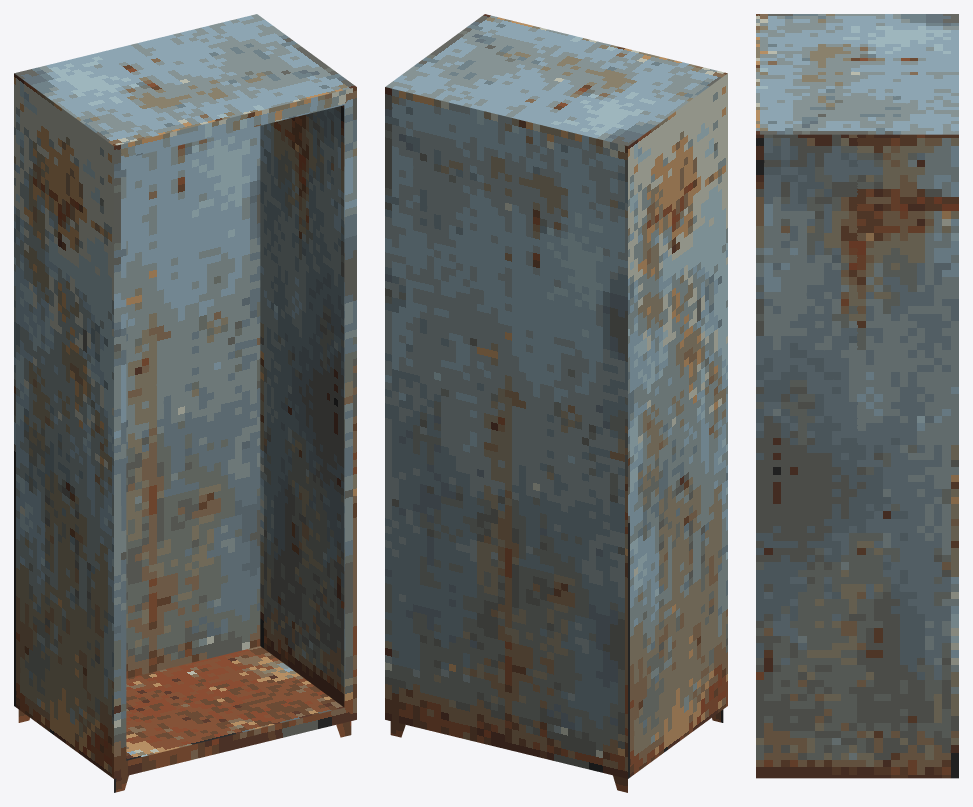
The model's file is tb_locker.glb.
3 renders of one model, left to right at view 1: azimuth 30°, elevation 25°; view 2: azimuth 150°, elevation 25°; view 3: azimuth 270°, elevation 25°, orthographic.
Parts seen in each view (by area): view 1: locker_00; view 2: locker_00; view 3: locker_00.
Part boxes in pixels (x1=…): locker_00: x1=14, y1=14, x2=356, y2=792; locker_00: x1=385, y1=14, x2=727, y2=792; locker_00: x1=756, y1=14, x2=958, y2=778.
Bounding box in the file's own units: 0.7445 × 1.9 × 0.5294.
Materials: 1 (1 with a texture image).
